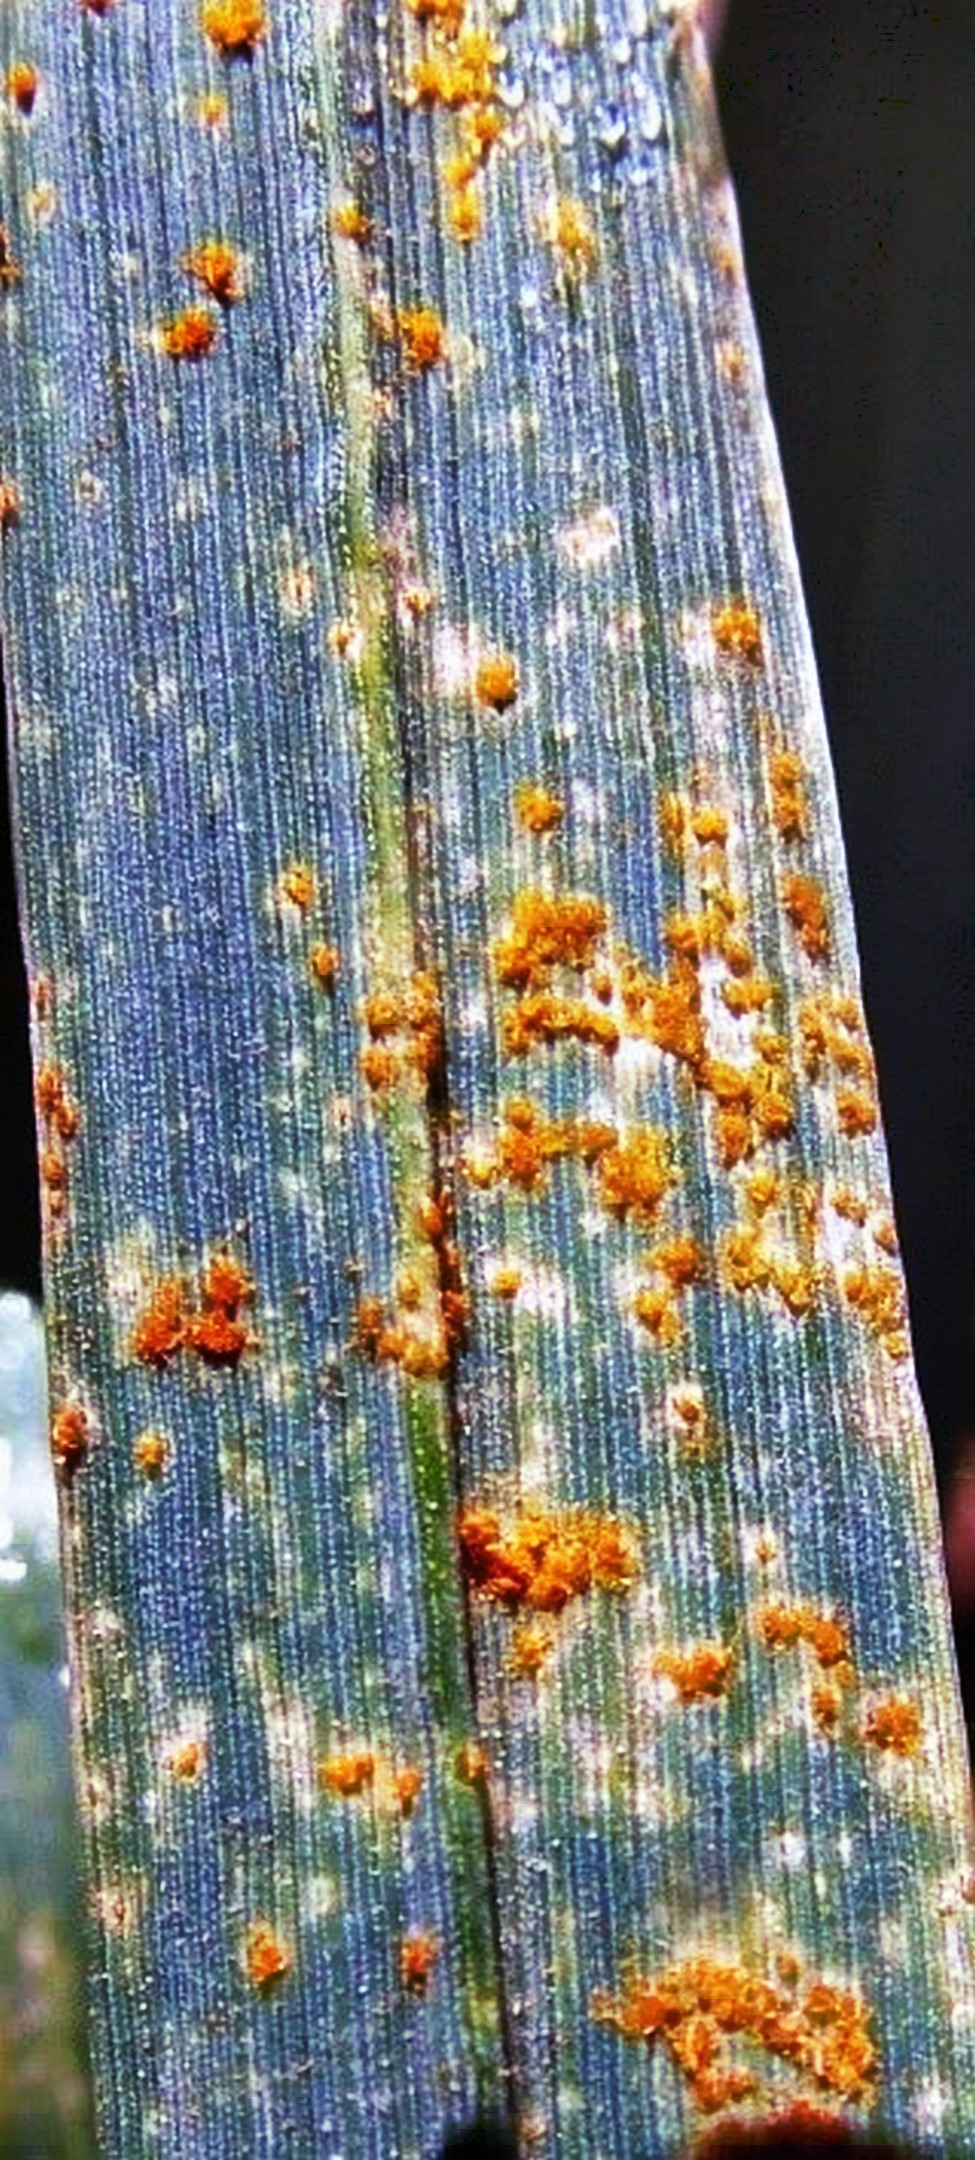Leaf Rust: (41, 624, 975, 2121)
